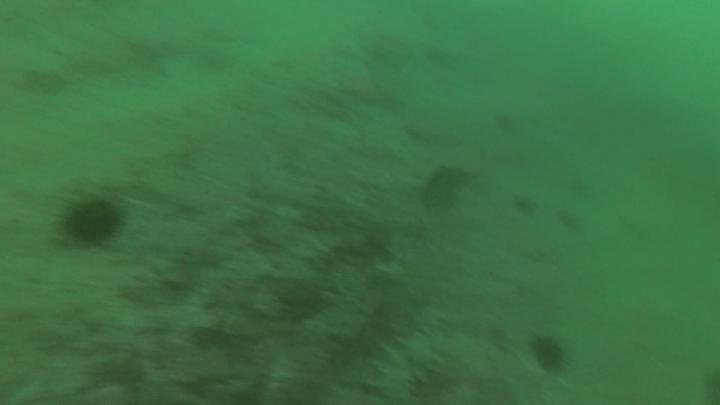echinus: (66, 201, 119, 243), (428, 167, 464, 207), (534, 335, 563, 371)
